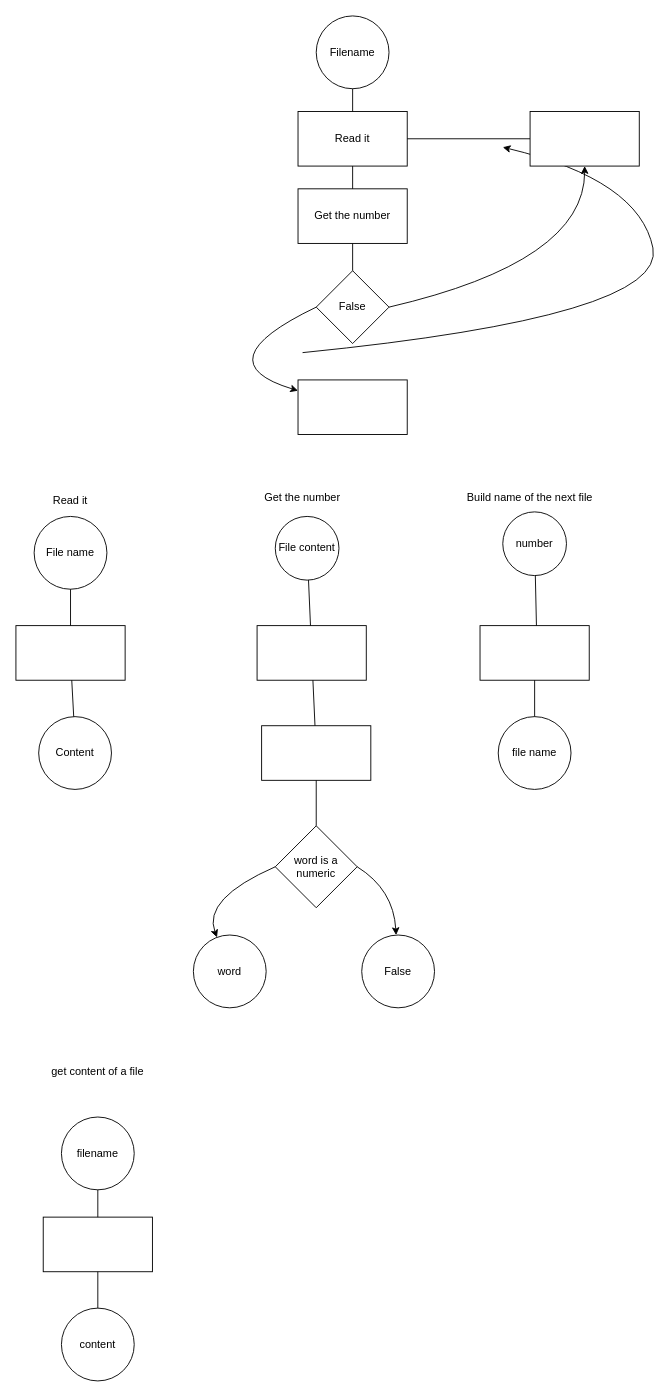
Some shapes in this 670 by 1397 pixel diagram are drawn without their labels. The shapes that lost their labels are listed below. From the top down, each one's centre as x and y in pixels, then its label:
(x=584, y=138): Build the name of the next file
(x=352, y=407): Print the content of the file
(x=70, y=652): Open file
(x=311, y=652): Split the words
(x=534, y=652): Format "{}.txt"
(x=316, y=752): Take the fourth word
(x=97, y=1244): Open & read
